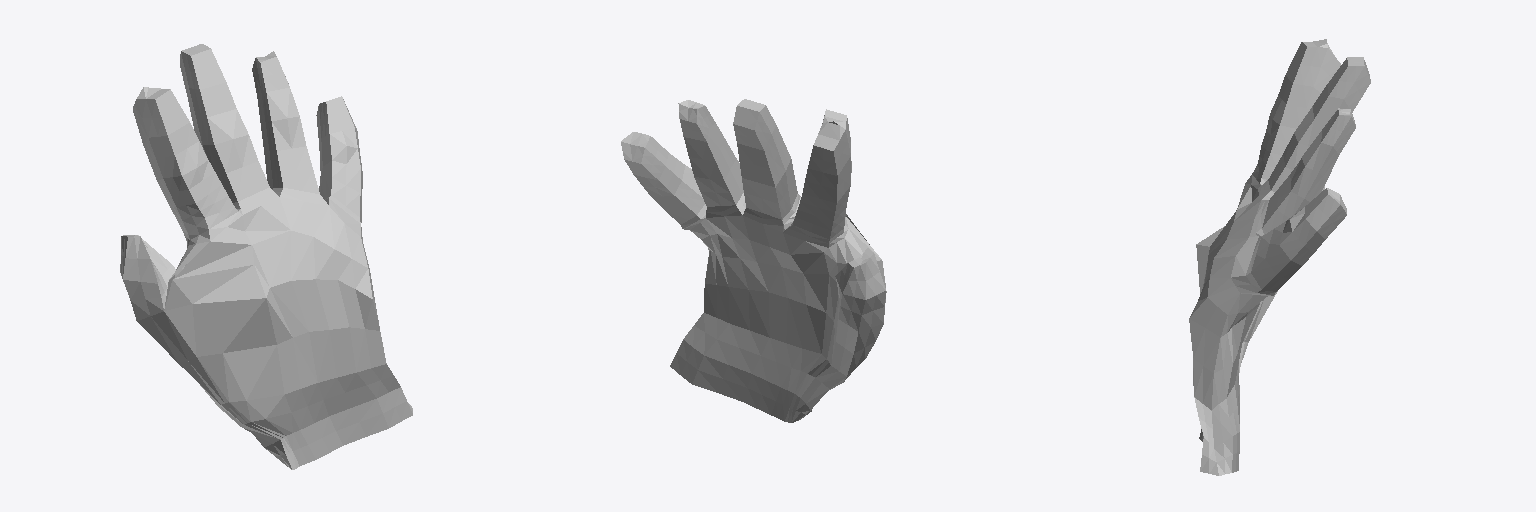
Rendered from flexion0017.obj.
3 renders of one model, left to right at view 1: azimuth 30°, elevation 25°; view 2: azimuth 150°, elevation 25°; view 3: azimuth 270°, elevation 25°, orthographic.
Parts seen in each view (by area): view 1: Hand; view 2: Hand; view 3: Hand.
Boxes of the visible parts, <box> form: Hand: <box>120,44,412,469</box>; Hand: <box>621,99,886,422</box>; Hand: <box>1189,39,1370,475</box>.
Size of the model in its own units: 3.27 by 4.59 by 2.05.